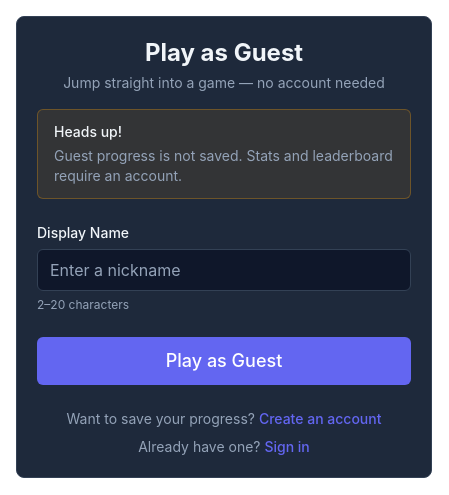
GuestEntryPage › shows field-level errors from API
Type "A" into the field labelled "Display Name". click: (224,270)
box: 37,249 -> 411,291
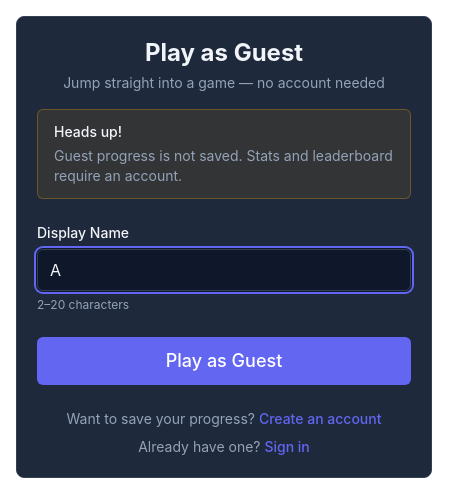
Click the button "Play as Guest". click: (224,361)
box: 37,337 -> 411,385
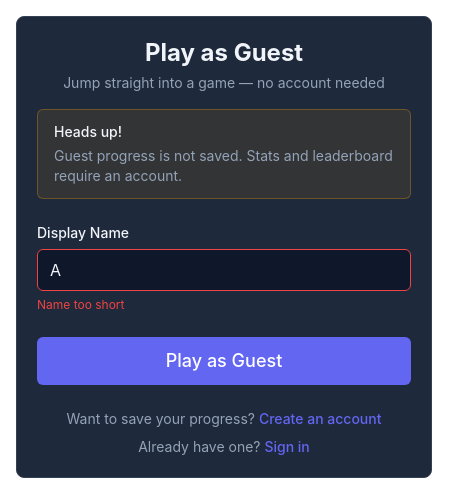
Now the text "Name too short" is shown, box 37,297 -> 124,312
